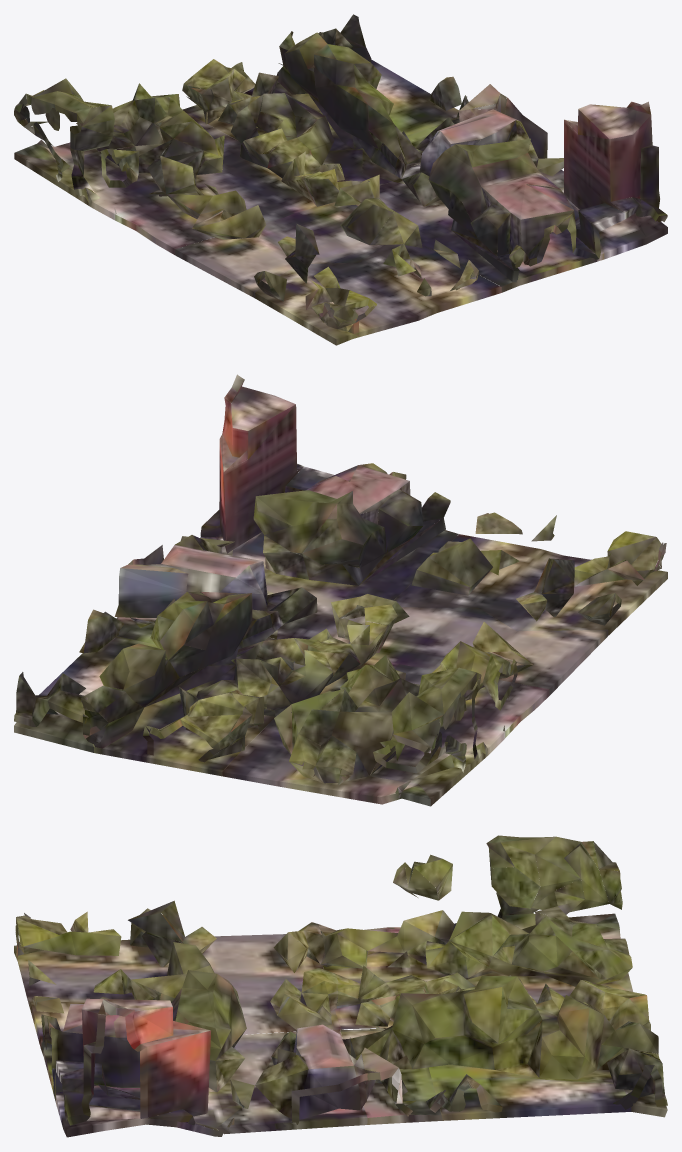
3 renders of one model, top to bottom at view 1: azimuth 30°, elevation 25°; view 2: azimuth 150°, elevation 25°; view 3: azimuth 270°, elevation 25°, orthographic. The views are drawn at different scales.
Visible parts, largest first — view 1: Mesh_0; view 2: Mesh_0; view 3: Mesh_0.
Part boxes in pixels (bbox=[...]): Mesh_0: bbox=[14, 14, 667, 345]; Mesh_0: bbox=[14, 374, 667, 806]; Mesh_0: bbox=[14, 835, 667, 1137].
Size of the model in its own units: 133 by 41.78 by 165.
Materials: 2 (2 with a texture image).
